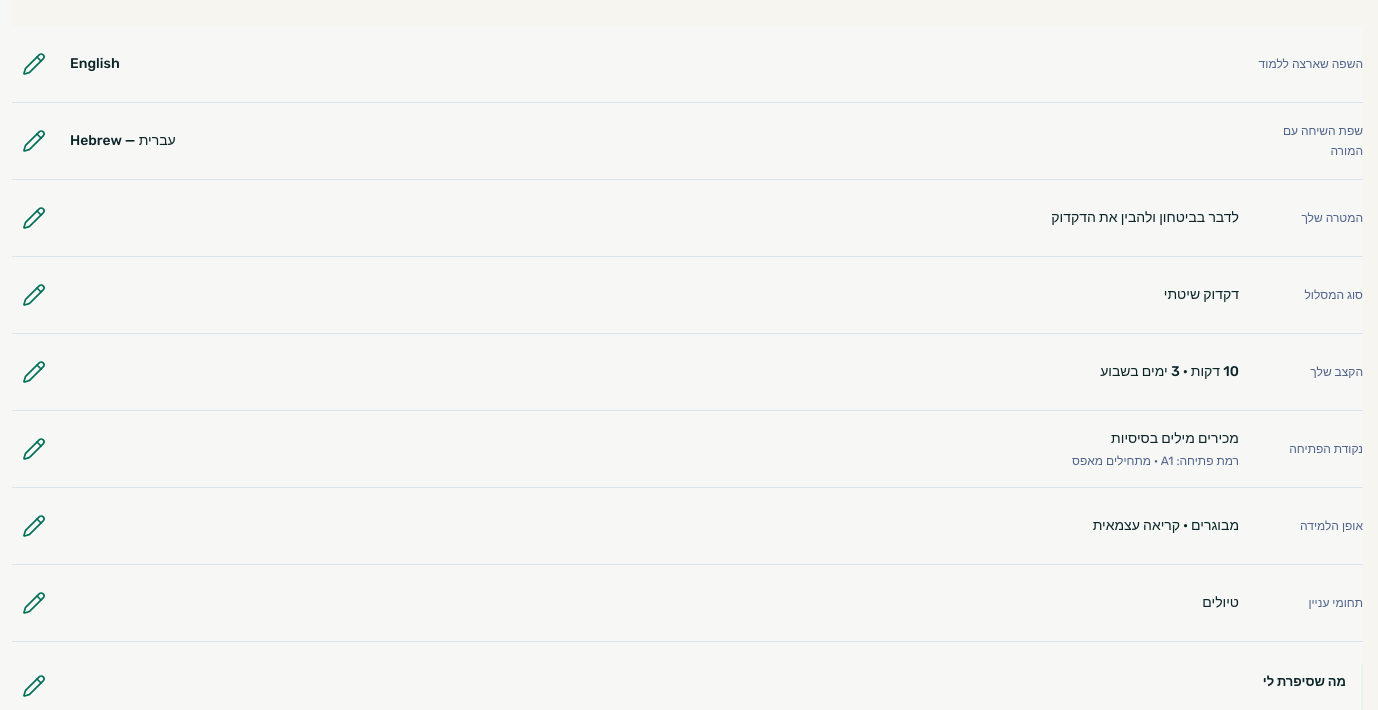
inline interview preference review › saves המטרה שלך without replacing other preferences
The image size is (1378, 710).
Click the button named "עריכת המטרה" at (34, 218), box [12,196,56,240]
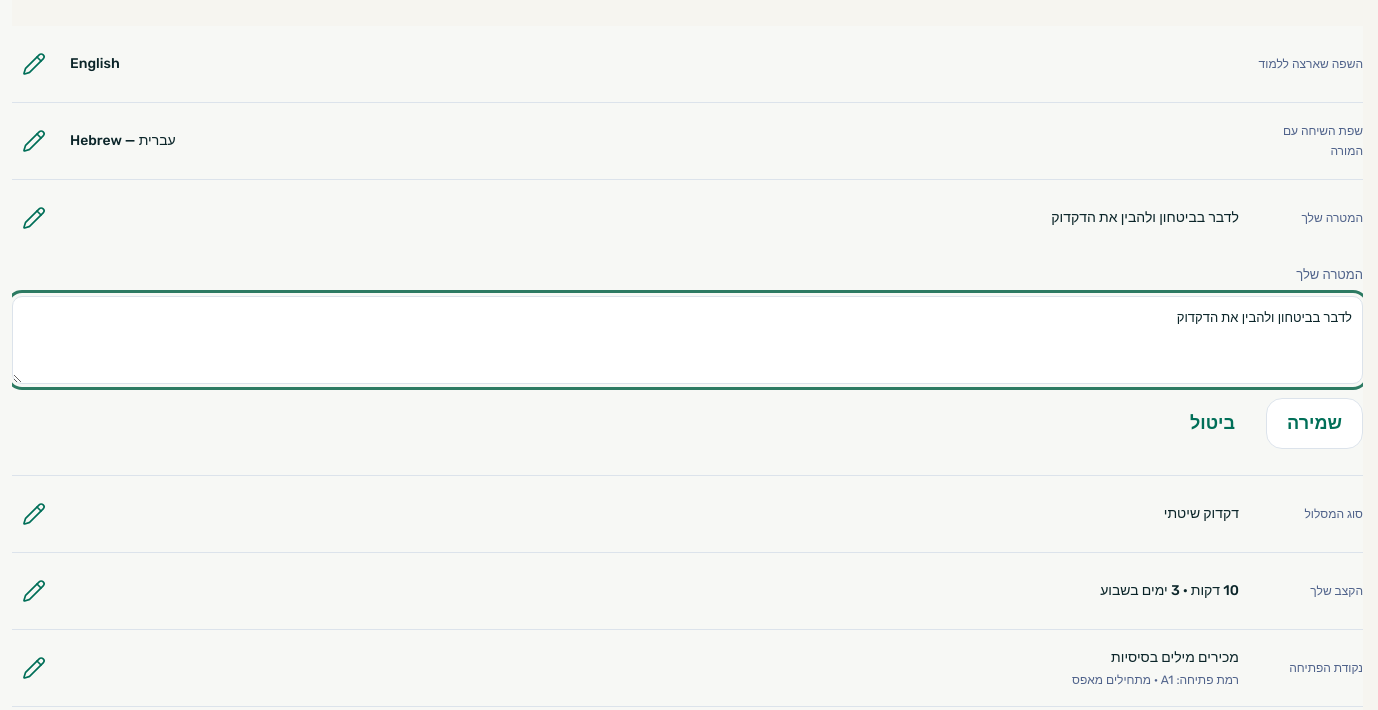
Replace the text in the text box with "מטרה מתוקנת" at (688, 340), box [12,296,1363,384]
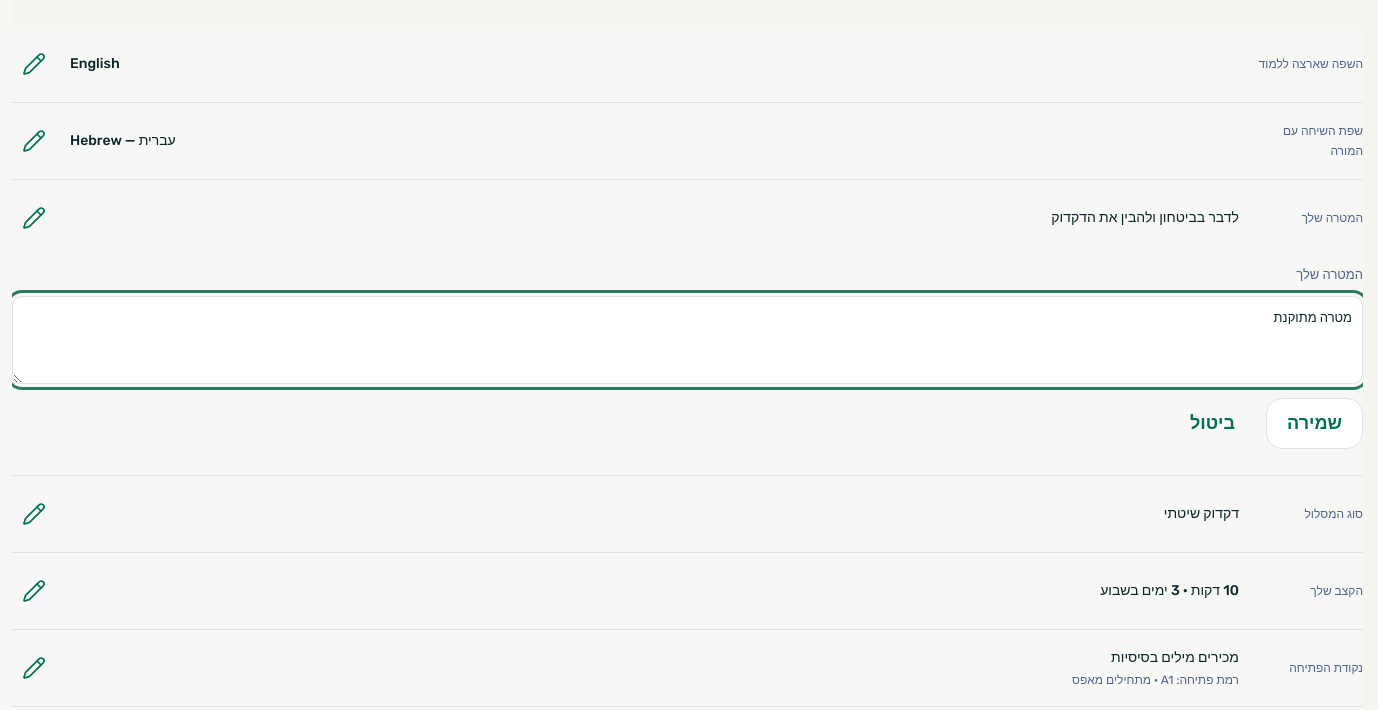
Click the button "שמירה" at (1314, 424), box [1266,398,1363,449]
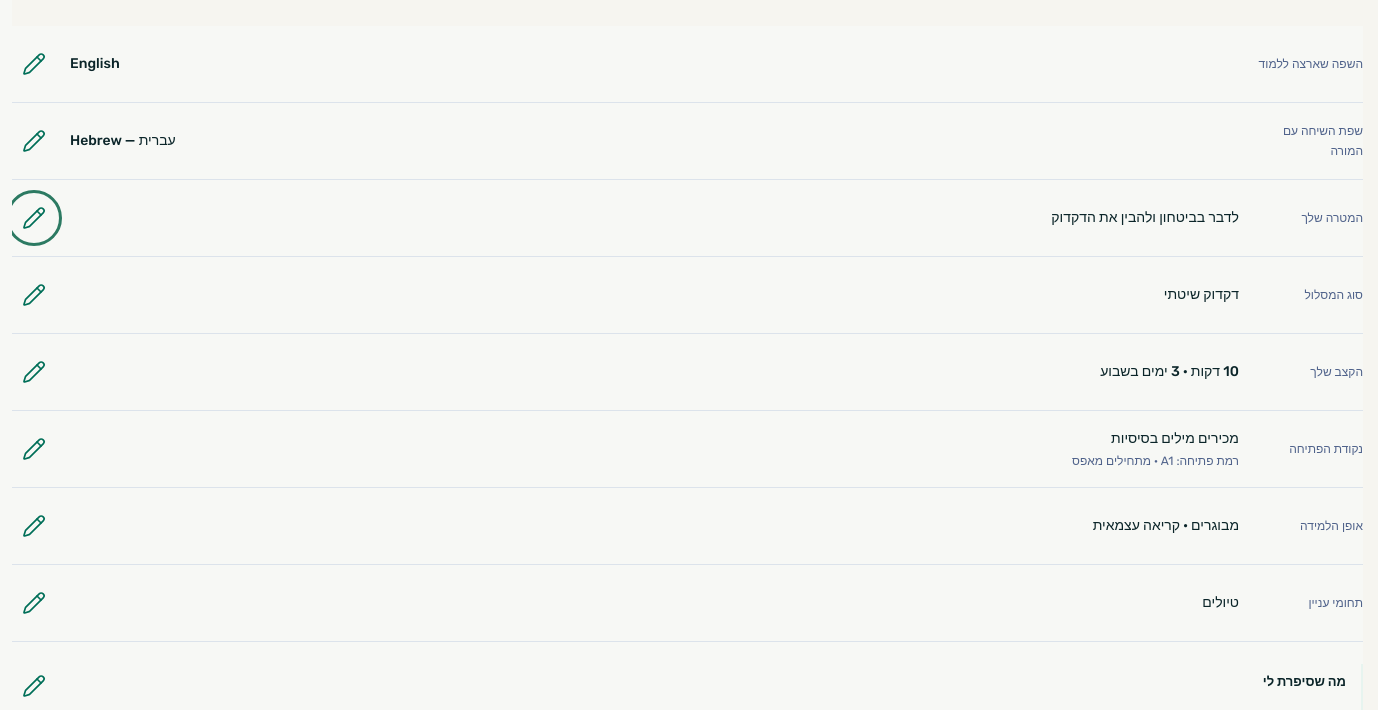
Now the form is gone
